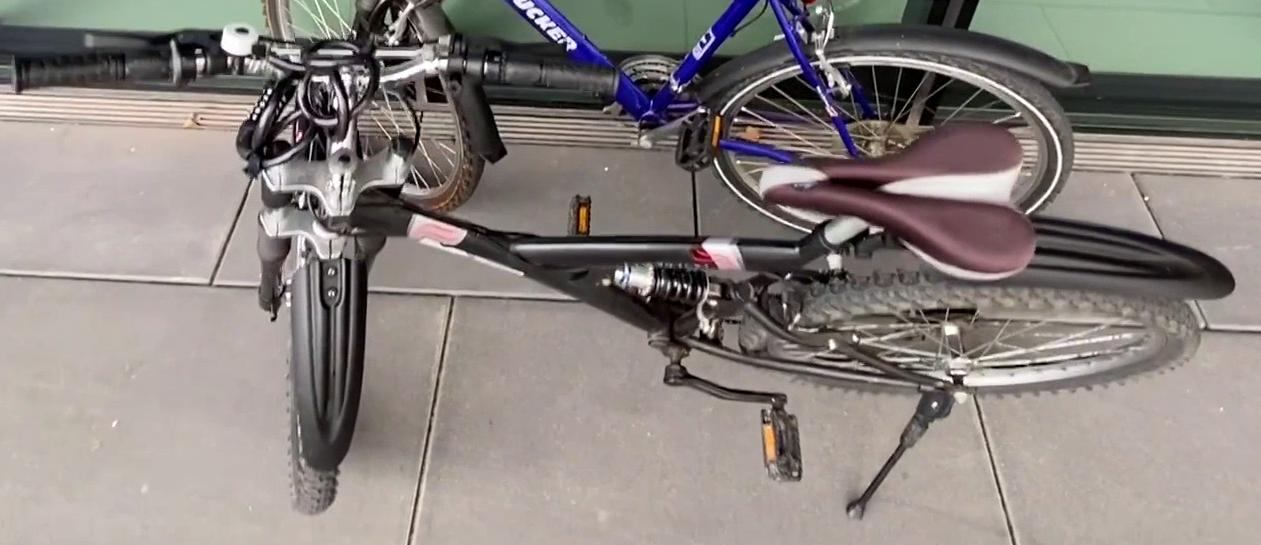Bicycle: (1, 0, 1261, 545)
